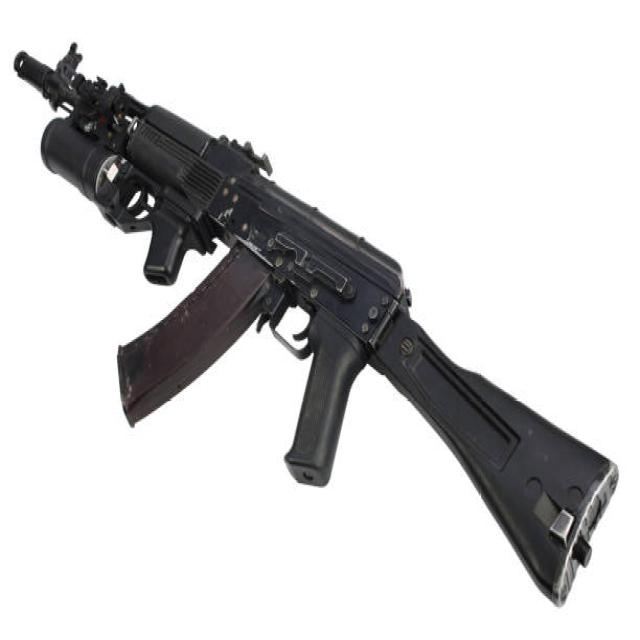rifle: (6, 31, 628, 607)
